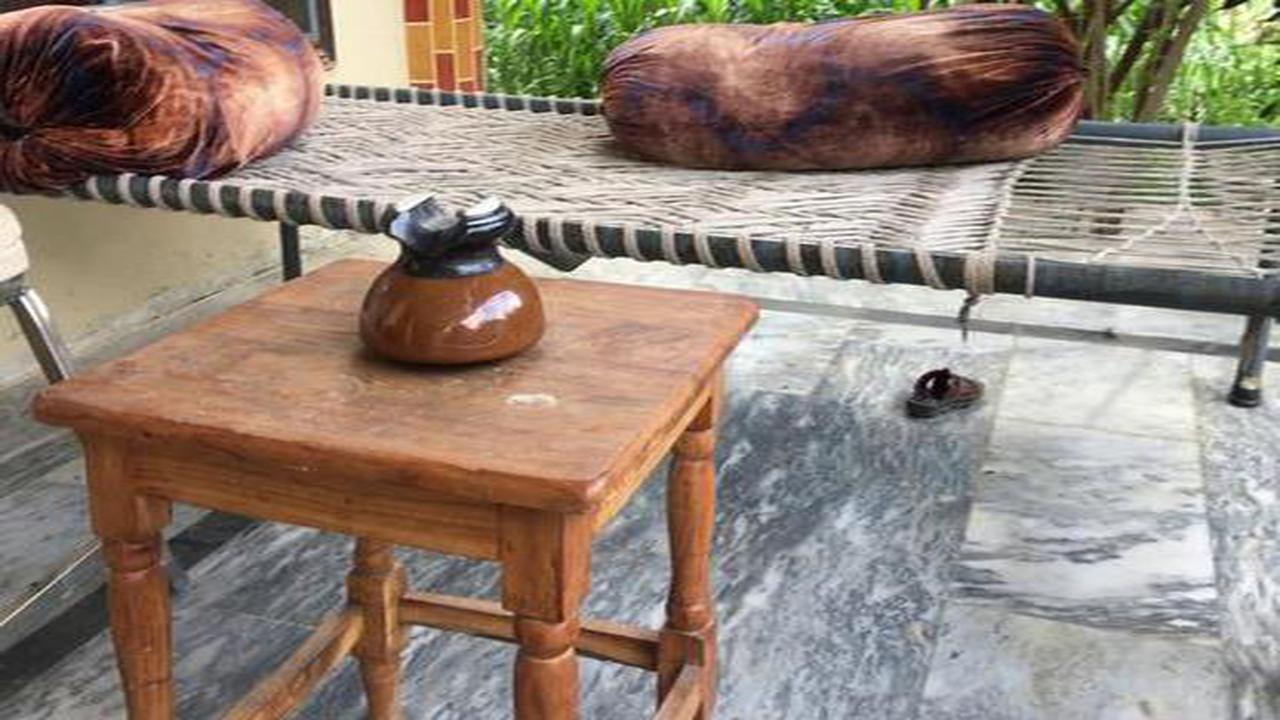insulator_pin: (345, 179, 561, 378)
